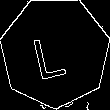L_N: (34, 24, 76, 80)
